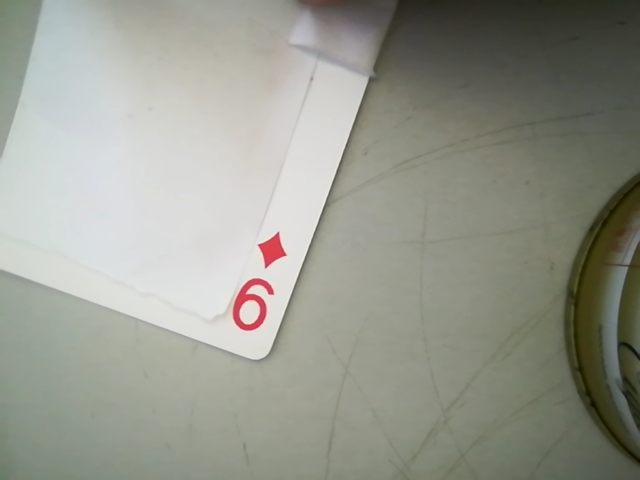fk 9: (221, 225, 293, 347)
